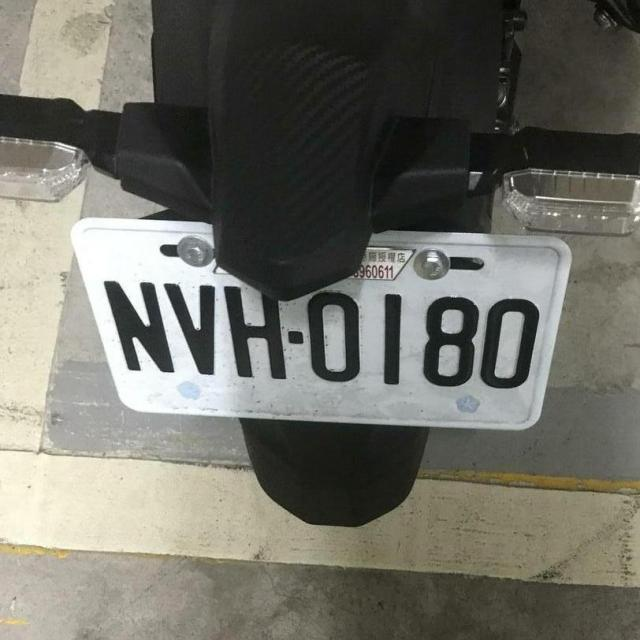W: (76, 208, 560, 445)
